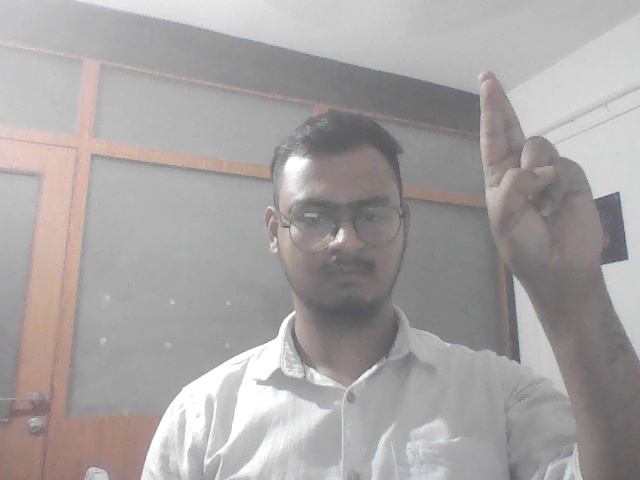GoodLuck: (471, 70, 622, 291)
